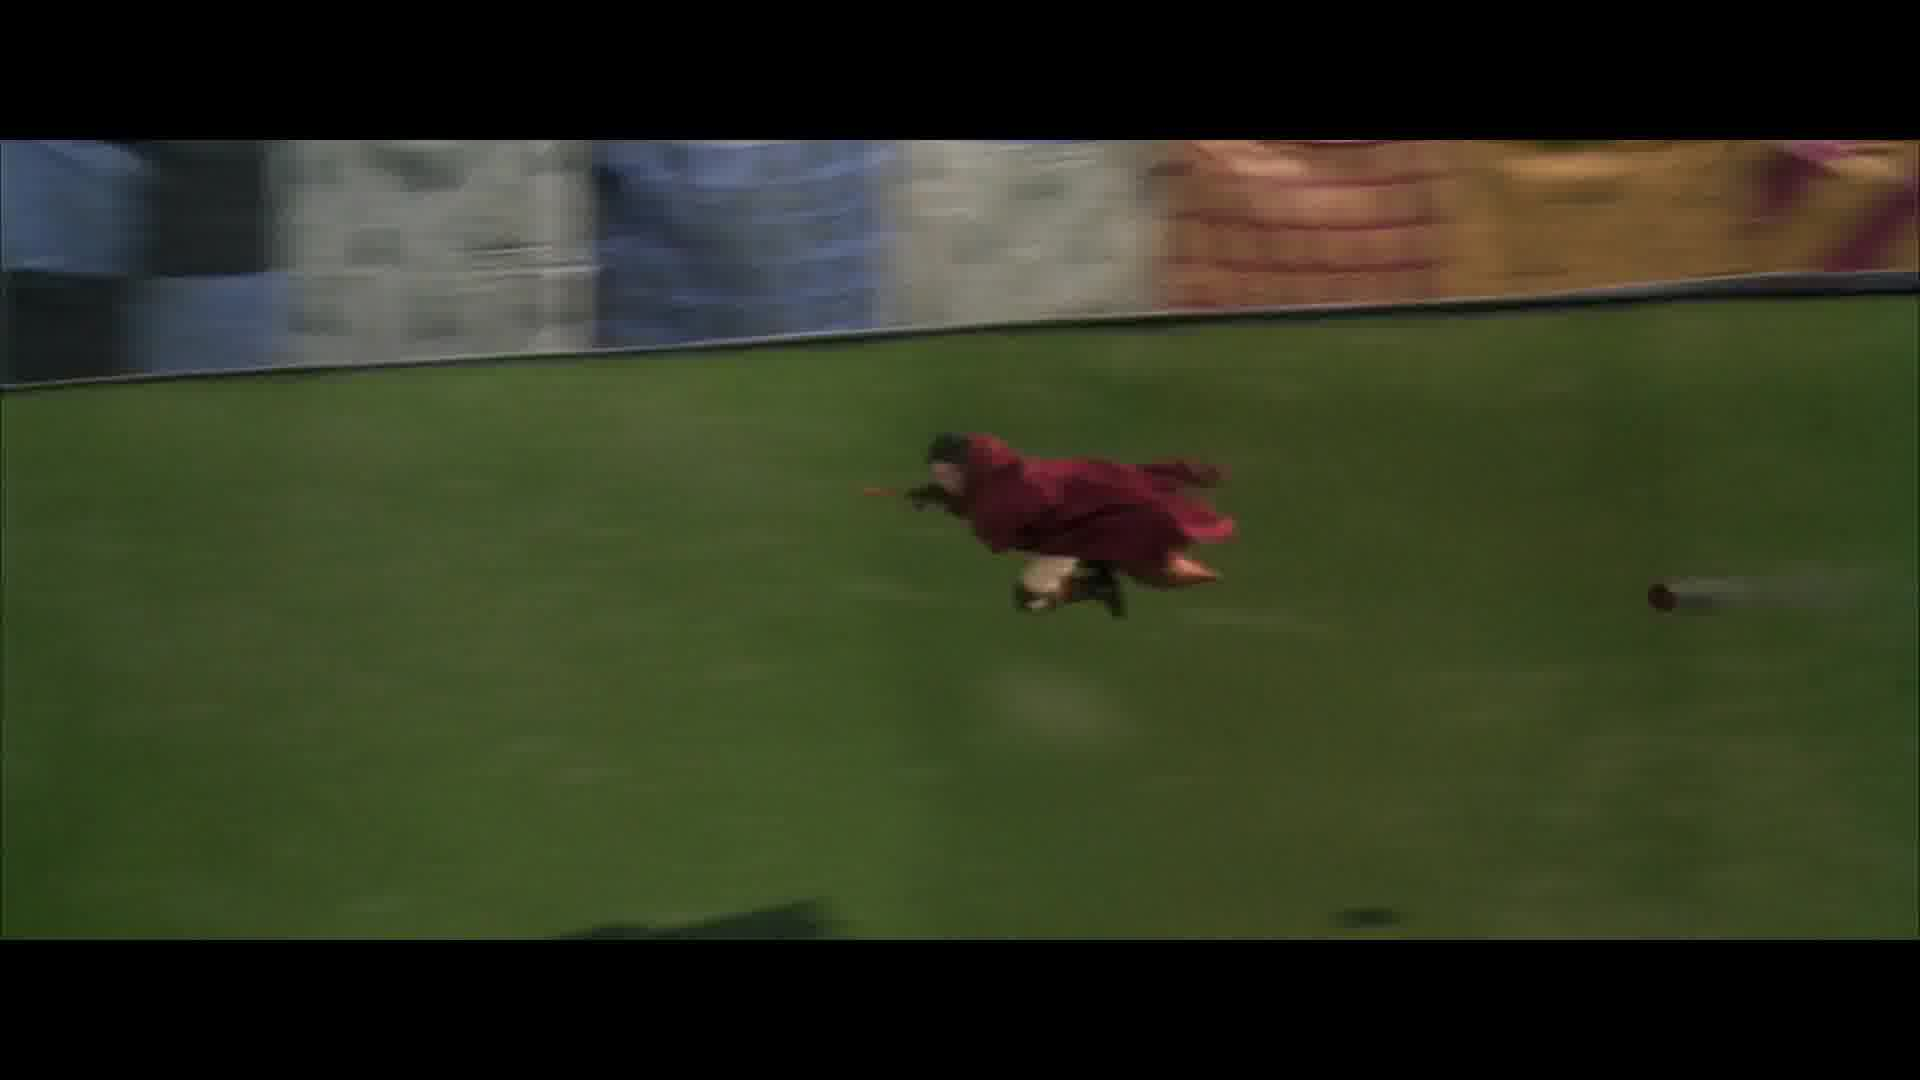bludger: (1646, 582, 1681, 616)
